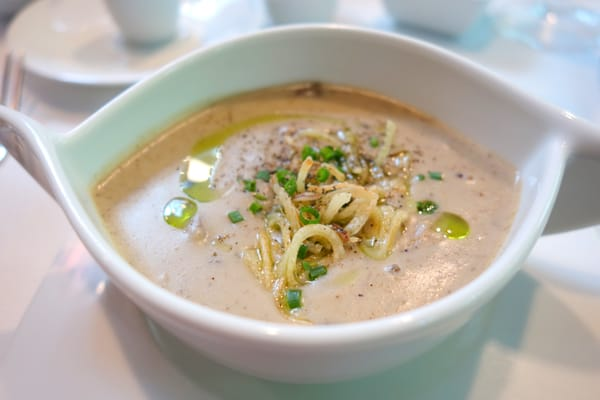pizza: (108, 0, 183, 46)
sushi: (0, 21, 574, 385)
